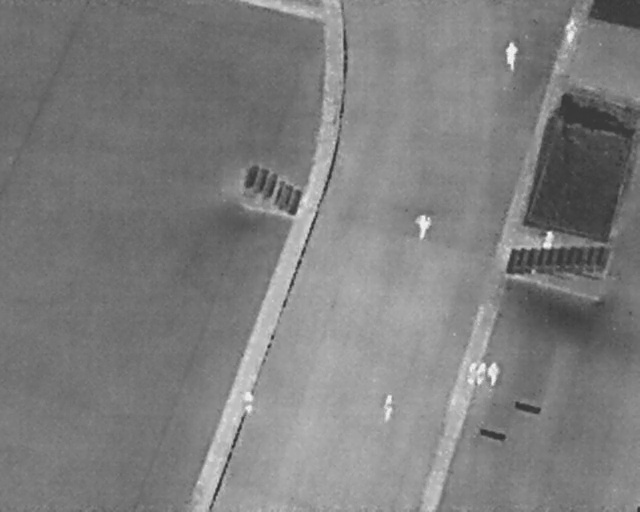Person: (411, 210, 434, 242), (504, 38, 518, 72), (381, 392, 394, 427), (241, 390, 256, 416), (488, 361, 500, 388), (476, 360, 488, 386), (466, 359, 477, 386)
